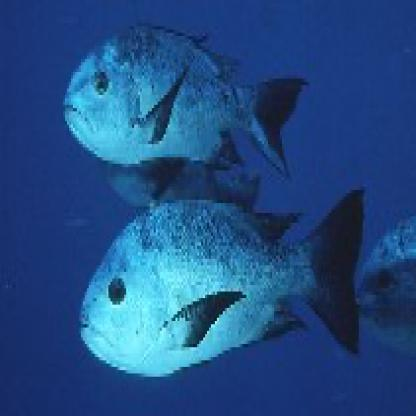snapper: (68, 175, 374, 375), (58, 11, 299, 184)
